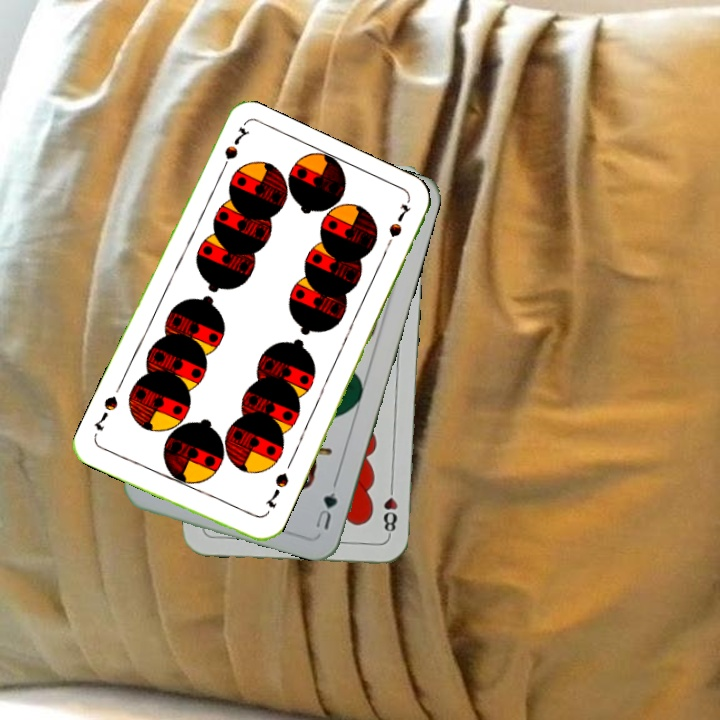GU: (311, 488, 340, 532)
H8: (379, 480, 400, 539)
S7: (215, 123, 252, 178), (261, 468, 291, 511)
